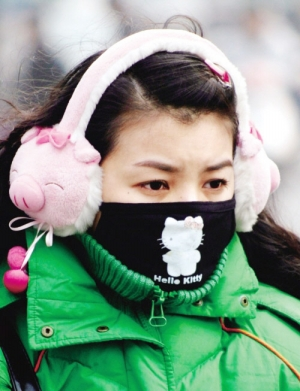face_mask: (97, 108, 237, 291)
